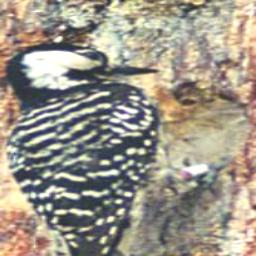Woodpecker: (0, 33, 240, 256)
